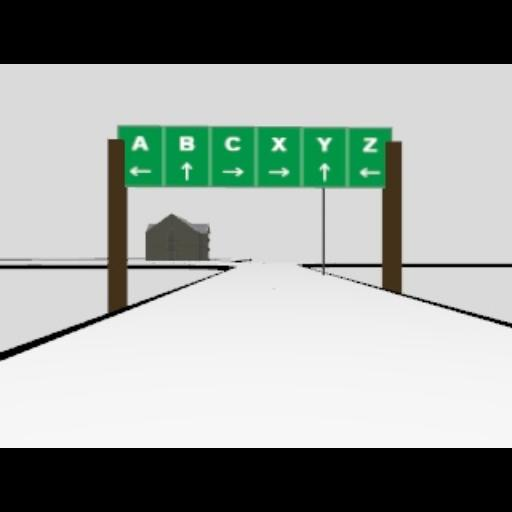A: (129, 134, 147, 150)
B: (178, 134, 194, 150)
C: (224, 134, 240, 150)
Left: (357, 166, 381, 178), (128, 164, 152, 176)
Right: (267, 166, 289, 178), (221, 166, 245, 176)
Straight: (180, 160, 192, 180), (318, 162, 330, 180)
X: (270, 136, 286, 150)
Y: (315, 136, 331, 152)
Z: (362, 136, 378, 152)
